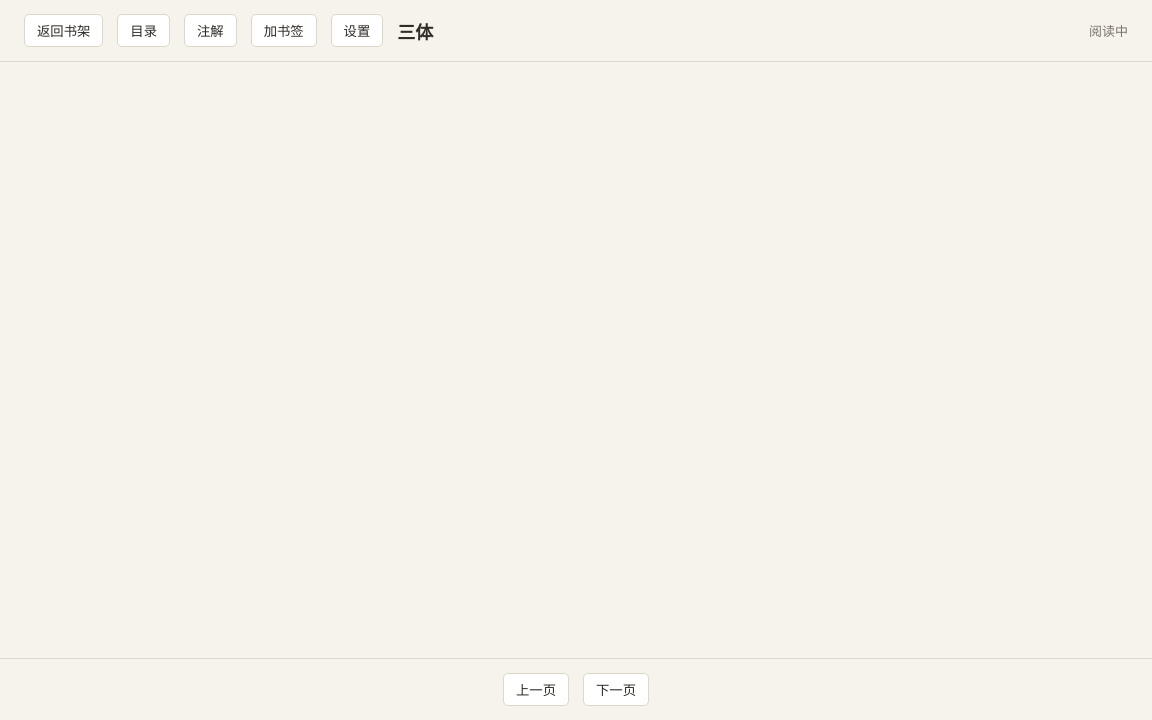
it: EpubReaderView 阅读设置 › 连点字号只落盘最终值
Expected: the text "阅读中" is shown, [1089,21,1128,40]
Click the button "设置" at point(357, 30), box [331,14,383,47]
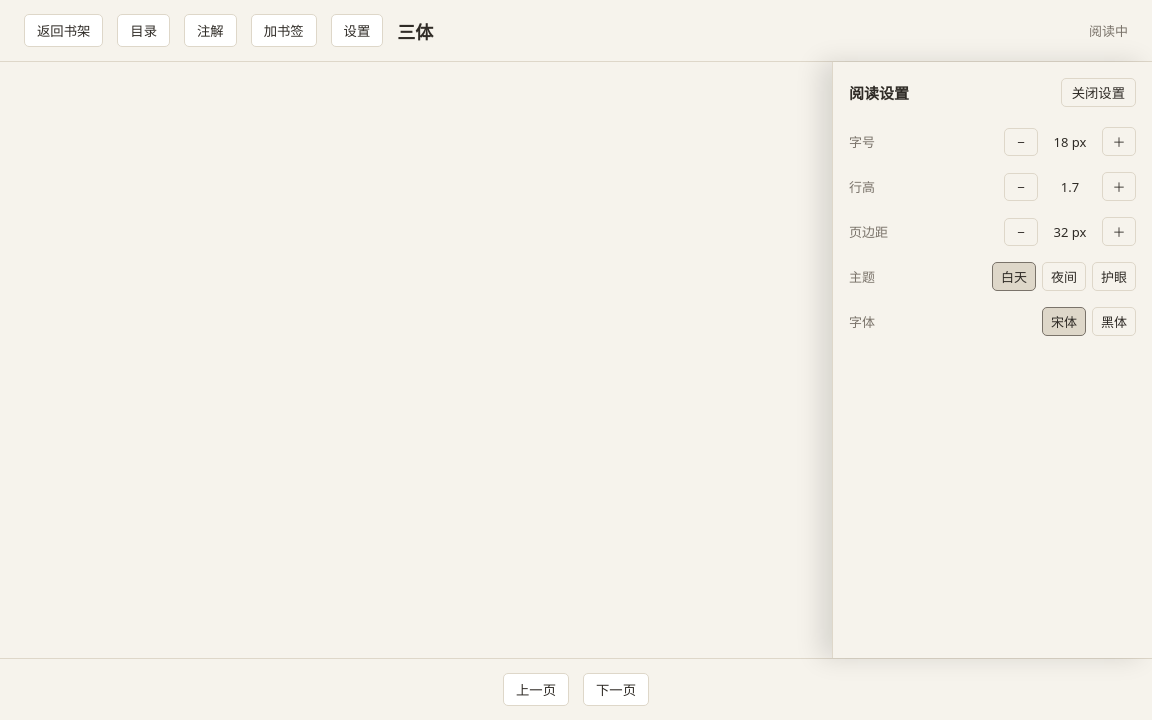
Click the button named "增大字号" at point(1119, 142), box [1102,127,1136,156]
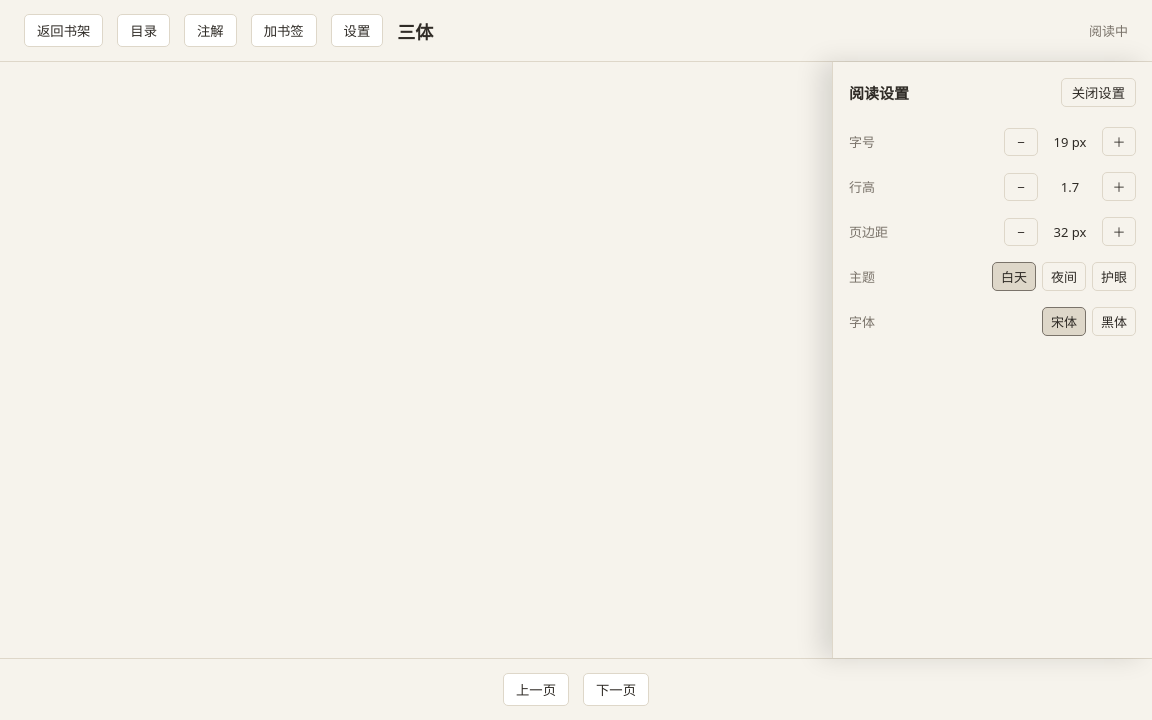
Click the button named "增大字号" at point(1119, 142), box [1102,127,1136,156]
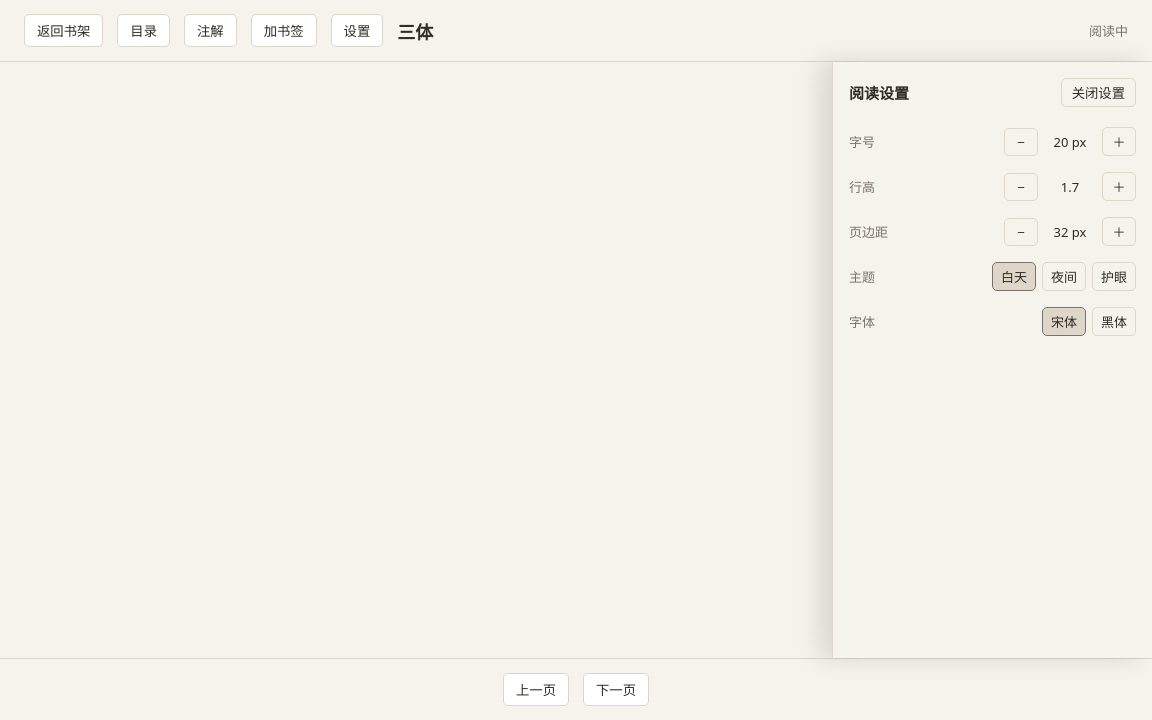
Click the button named "增大字号" at point(1119, 142), box [1102,127,1136,156]
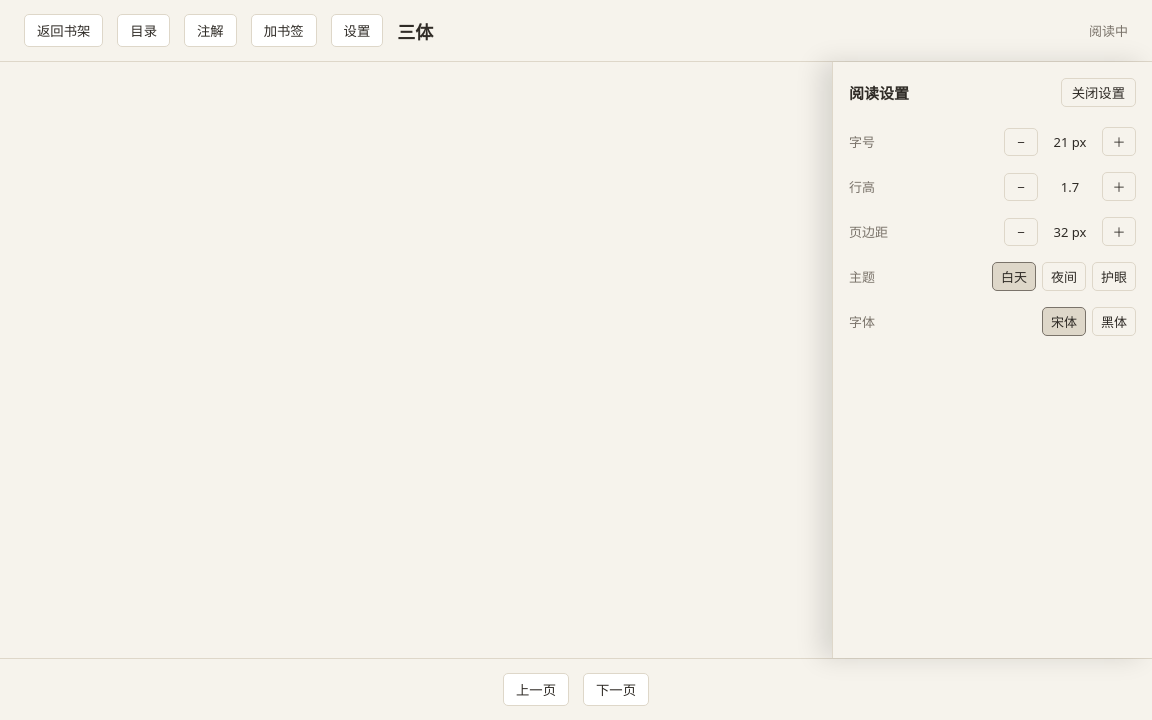
Expected: the text "21 px" is shown, [1054,132,1086,150]
